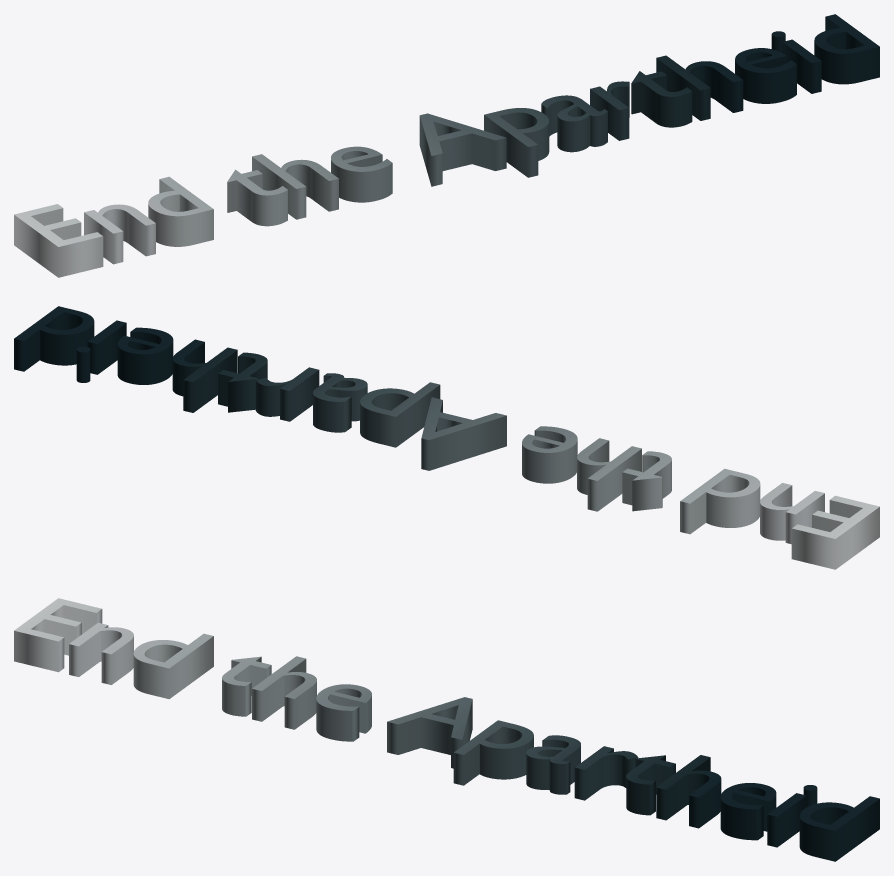
3 views of the same model, one above another, from view 1: azimuth 30°, elevation 25°; view 2: azimuth 150°, elevation 25°; view 3: azimuth 330°, elevation 25° (orthographic).
Visible parts, largest first — view 1: 文字.013; view 2: 文字.013; view 3: 文字.013.
Boxes of the visible parts, x1,y1,x2,y2 form: 文字.013: (14, 14, 879, 277); 文字.013: (14, 306, 879, 569); 文字.013: (14, 598, 879, 861).
Bounding box in the file's own units: 7.28 × 0.26 × 0.916.
Materials: 1 (1 with a texture image).
